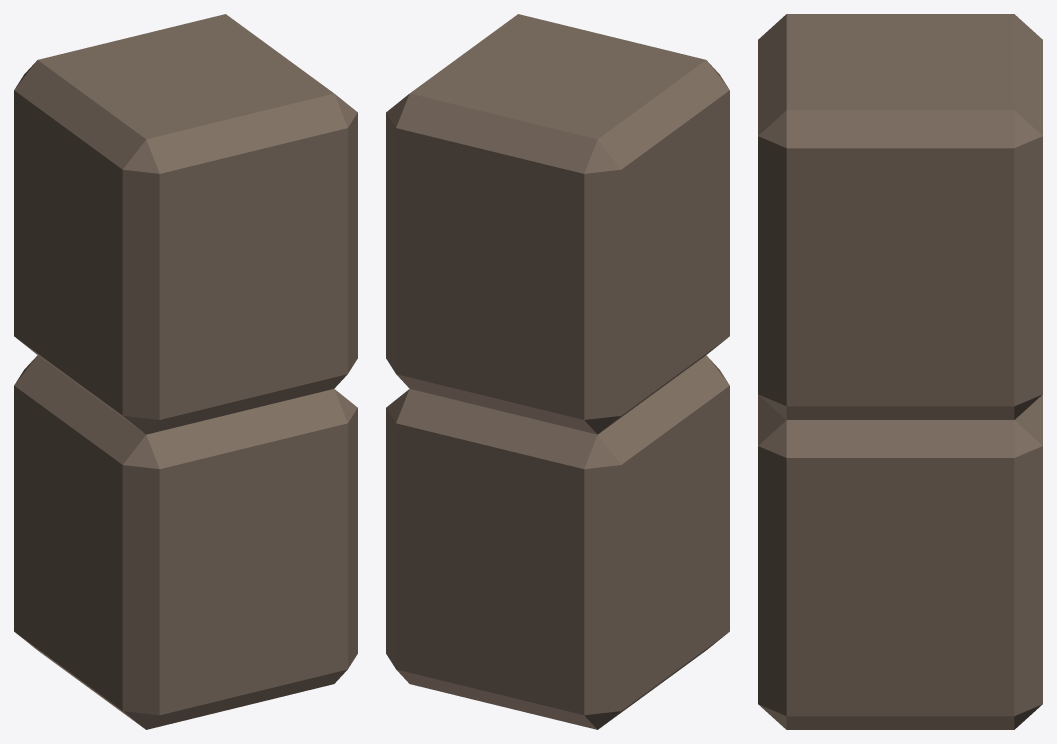
The model's file is Stone_Pillar.obj.
3 views of the same model, side by side, from view 1: azimuth 30°, elevation 25°; view 2: azimuth 150°, elevation 25°; view 3: azimuth 270°, elevation 25° (orthographic). The views are drawn at different scales.
Parts seen in each view (by area): view 1: object1; view 2: object1; view 3: object1.
Boxes of the visible parts, <box> form: object1: <box>14,14,357,729</box>; object1: <box>386,14,729,729</box>; object1: <box>758,14,1042,729</box>.
Bounding box in the file's own units: 0.25 × 0.6 × 0.25.
